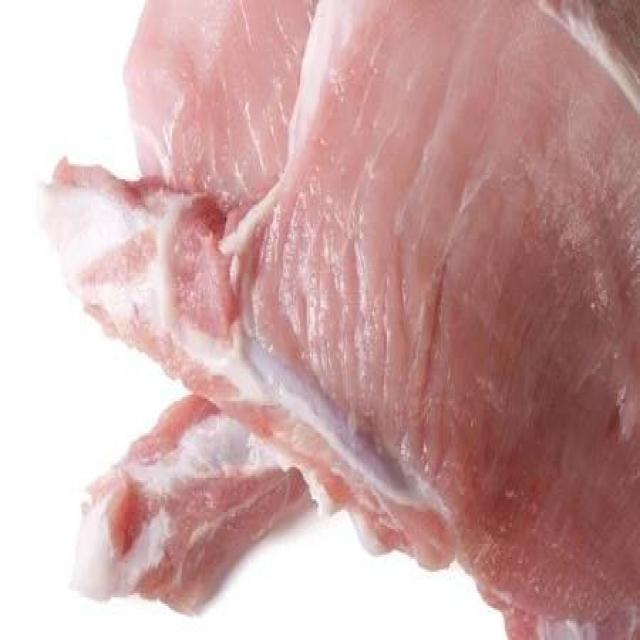pork: (44, 2, 640, 640)
